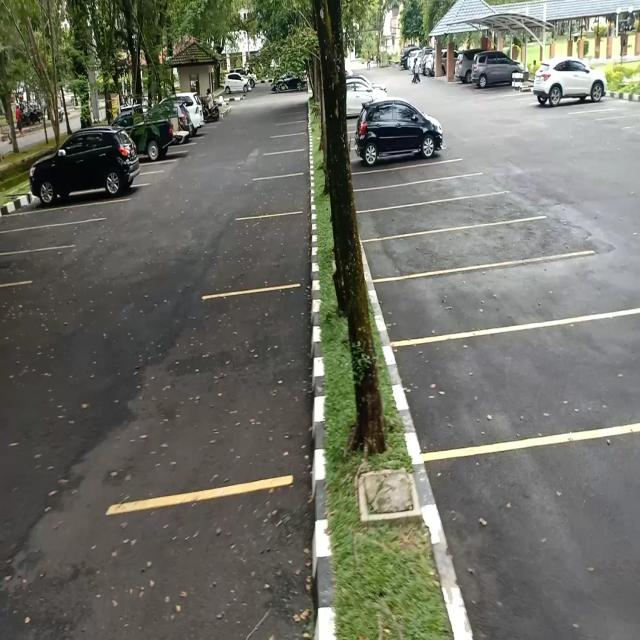empty: (150, 290, 310, 496), (417, 327, 640, 453), (389, 266, 572, 338), (374, 229, 525, 275), (233, 211, 309, 290), (366, 204, 507, 234), (358, 180, 472, 207), (255, 174, 306, 217), (0, 226, 86, 251), (260, 149, 306, 177)
occupied: (29, 157, 142, 206), (351, 126, 446, 172), (525, 78, 610, 108)
